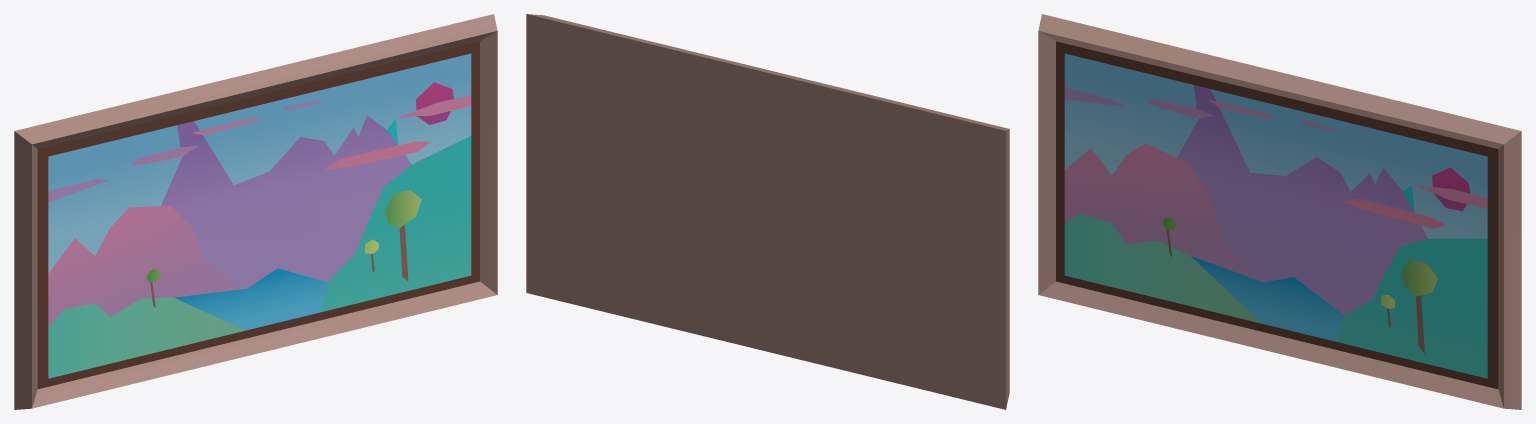
Rendered from picture_057.glb.
The picture shows the model from 3 angles, left to right: view 1: azimuth 30°, elevation 25°; view 2: azimuth 150°, elevation 25°; view 3: azimuth 330°, elevation 25°; orthographic projection.
Parts seen in each view (by area): view 1: picture_057; view 2: picture_057; view 3: picture_057.
Part boxes in pixels (box(x1,y1,x2,y2)): picture_057: box(14, 14, 497, 409); picture_057: box(526, 14, 1009, 409); picture_057: box(1038, 14, 1521, 409).
Bounding box in the file's own units: 1.47 × 0.8166 × 0.0563.
Materials: 1 (1 with a texture image).
